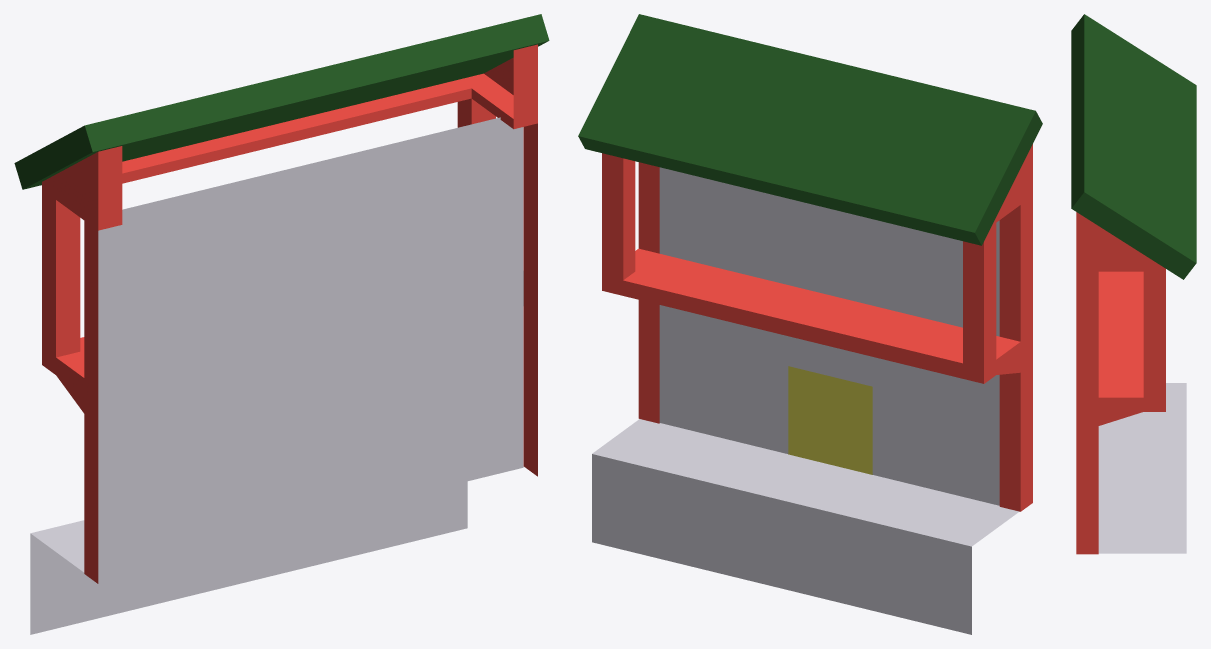
File: Chinese_House.fbx
3 views of the same model, side by side, from view 1: azimuth 30°, elevation 25°; view 2: azimuth 150°, elevation 25°; view 3: azimuth 270°, elevation 25° (orthographic). The views are drawn at different scales.
Parts seen in each view (by area): view 1: Main, Frame, Roof; view 2: Main, Roof, Frame, Door; view 3: Roof, Frame, Main.
Boxes of the visible parts, bbox=[...] form: Main: bbox=[30, 117, 523, 634]; Frame: bbox=[42, 44, 537, 583]; Roof: bbox=[14, 14, 549, 189]; Main: bbox=[592, 167, 1018, 634]; Roof: bbox=[578, 14, 1042, 245]; Frame: bbox=[602, 144, 1032, 511]; Door: bbox=[788, 366, 872, 474]; Roof: bbox=[1071, 14, 1196, 279]; Frame: bbox=[1076, 212, 1165, 554]; Main: bbox=[1098, 383, 1186, 553].
Bounding box in the file's own units: 940 × 1099 × 279.
